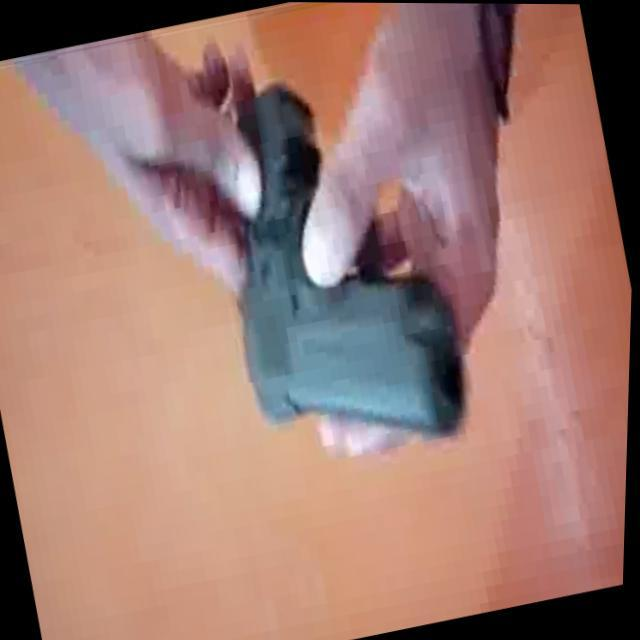weapon: (180, 19, 488, 474)
